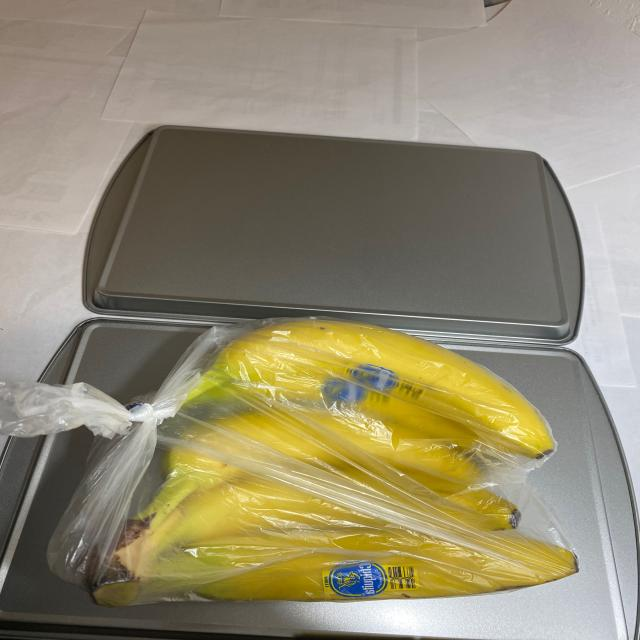banana: (50, 314, 581, 614)
